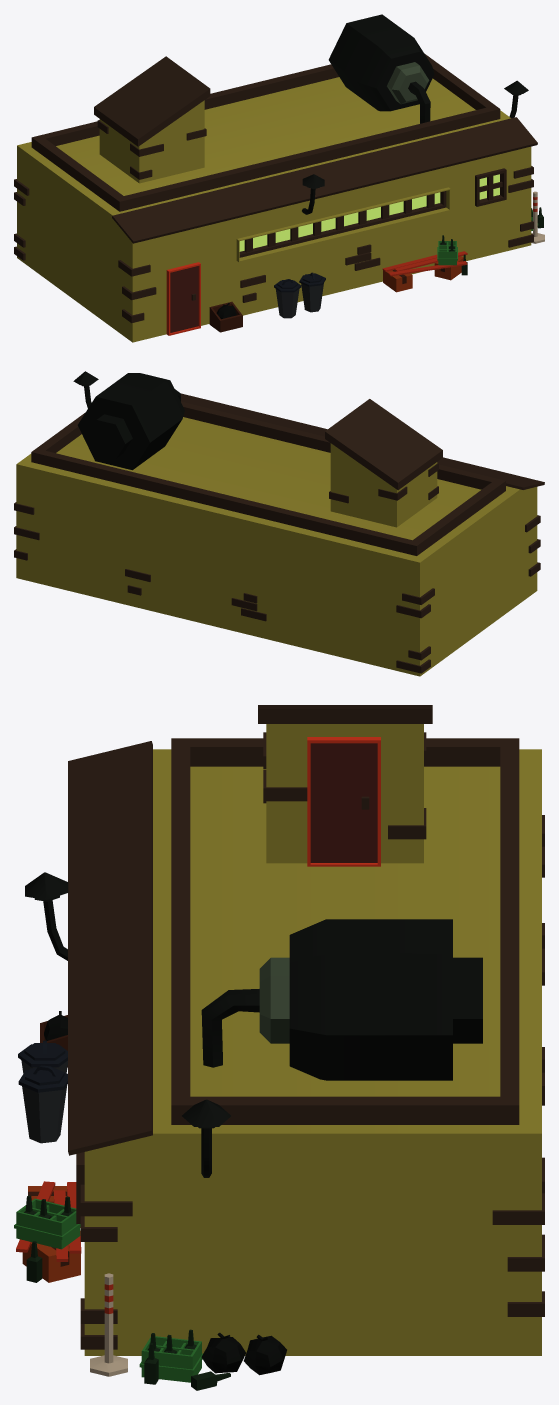
Rendered from house_1.fbx.
3 views of the same model, one above another, from view 1: azimuth 30°, elevation 25°; view 2: azimuth 150°, elevation 25°; view 3: azimuth 270°, elevation 25° (orthographic). The views are drawn at different scales.
Visible parts, largest first — view 1: house_3; view 2: house_3; view 3: house_3.
Boxes of the visible parts, bbox=[...] form: house_3: bbox=[14, 14, 544, 342]; house_3: bbox=[14, 371, 544, 676]; house_3: bbox=[14, 705, 544, 1390].
Size of the model in its own units: 1462 by 627 by 779.
